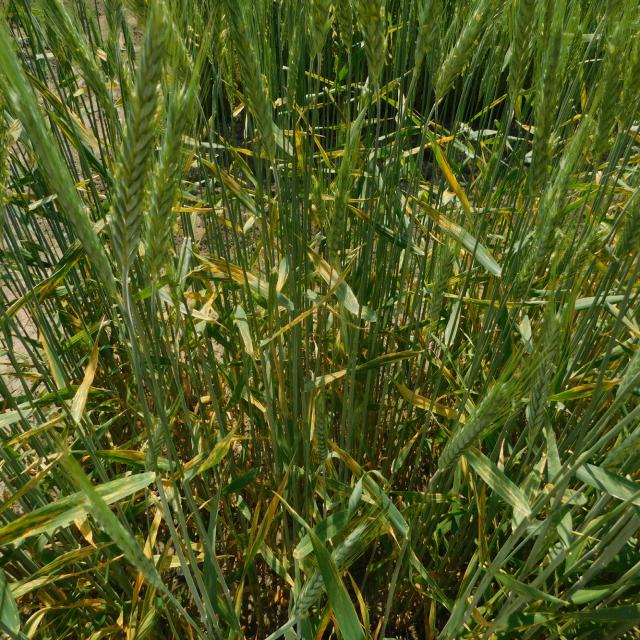wheat-yellowrust: (244, 457, 295, 572), (0, 491, 94, 543), (196, 256, 277, 303), (431, 137, 470, 221), (70, 334, 98, 423), (96, 472, 156, 505), (199, 429, 234, 472)
